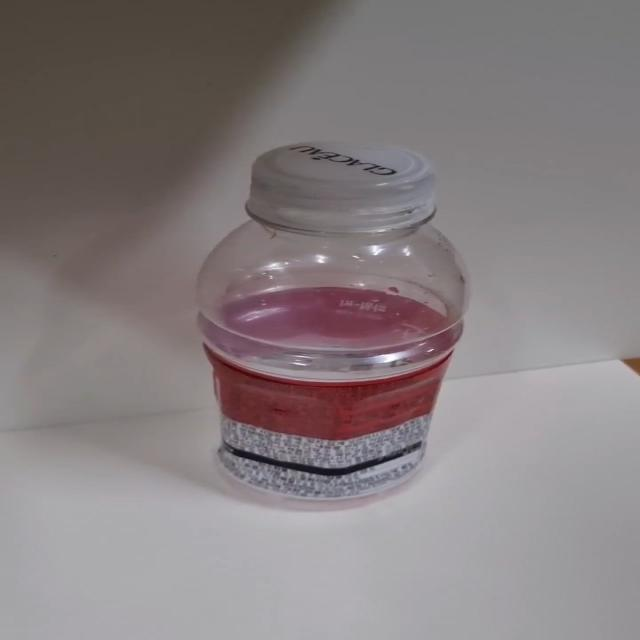Plastic: (195, 142, 470, 514)
